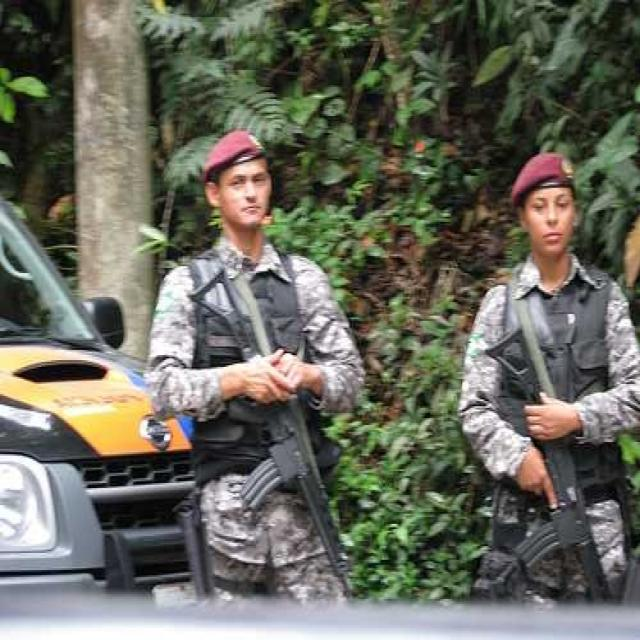Rifle: (186, 250, 356, 588), (478, 276, 609, 602)
